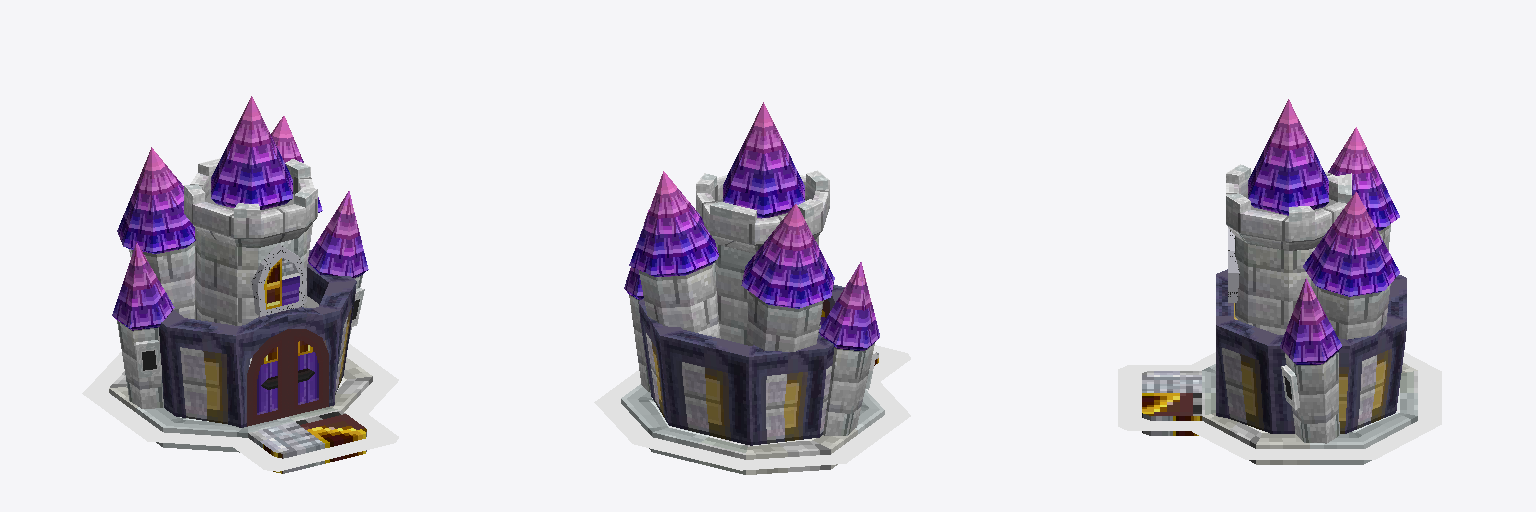
3 views of the same model, side by side, from view 1: azimuth 30°, elevation 25°; view 2: azimuth 150°, elevation 25°; view 3: azimuth 270°, elevation 25° (orthographic).
Bounding box in the file's own units: 84.2 × 101 × 93.89.
Materials: 2 (1 with a texture image).